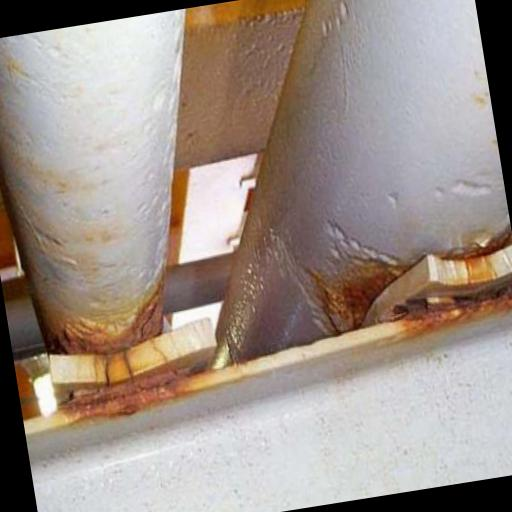segmentation: (50, 274, 162, 353), (398, 290, 512, 331), (59, 382, 172, 419), (340, 260, 399, 319)
